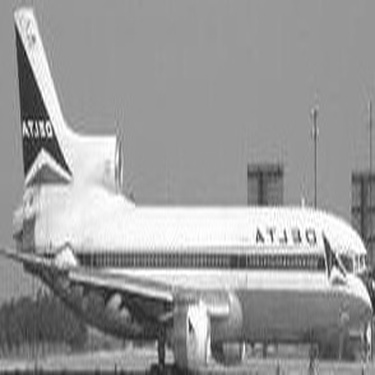airplane: (4, 3, 369, 370)
